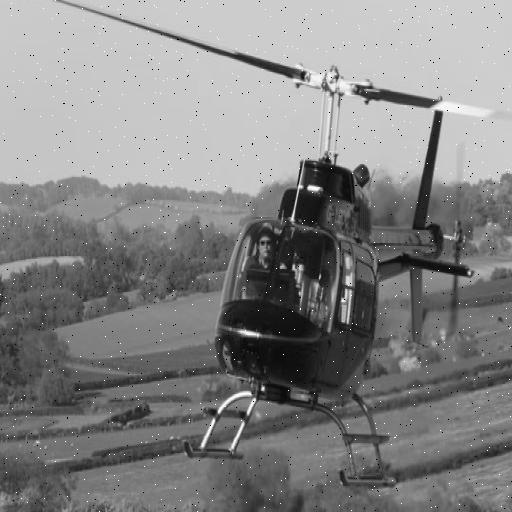helicopter: (108, 52, 432, 505)
